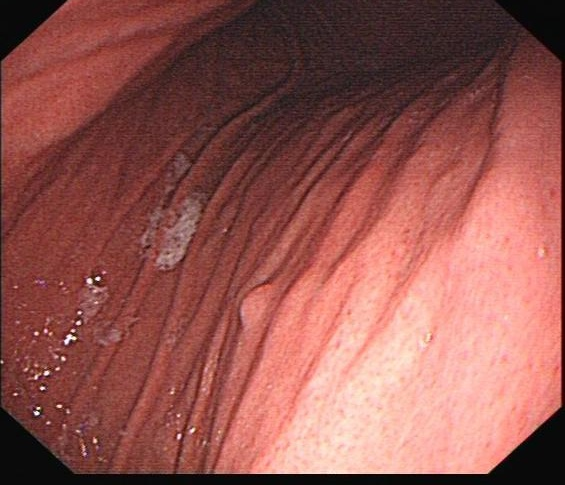Polyp: (230, 269, 286, 332)
